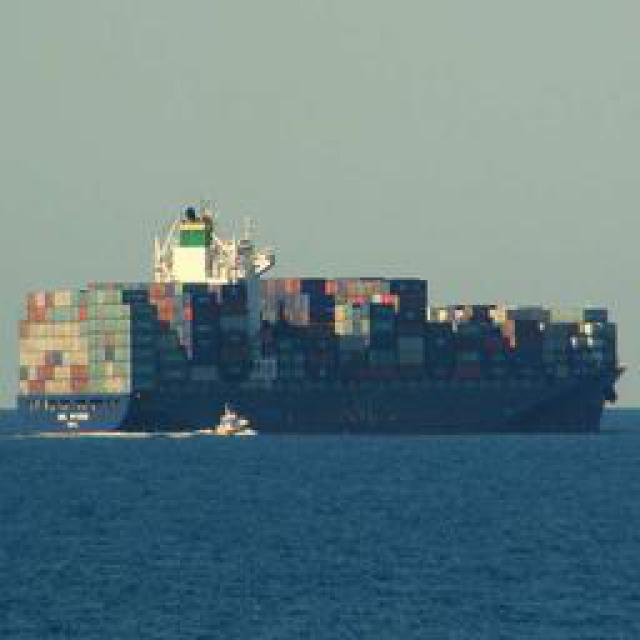Ship: (10, 236, 633, 436)
